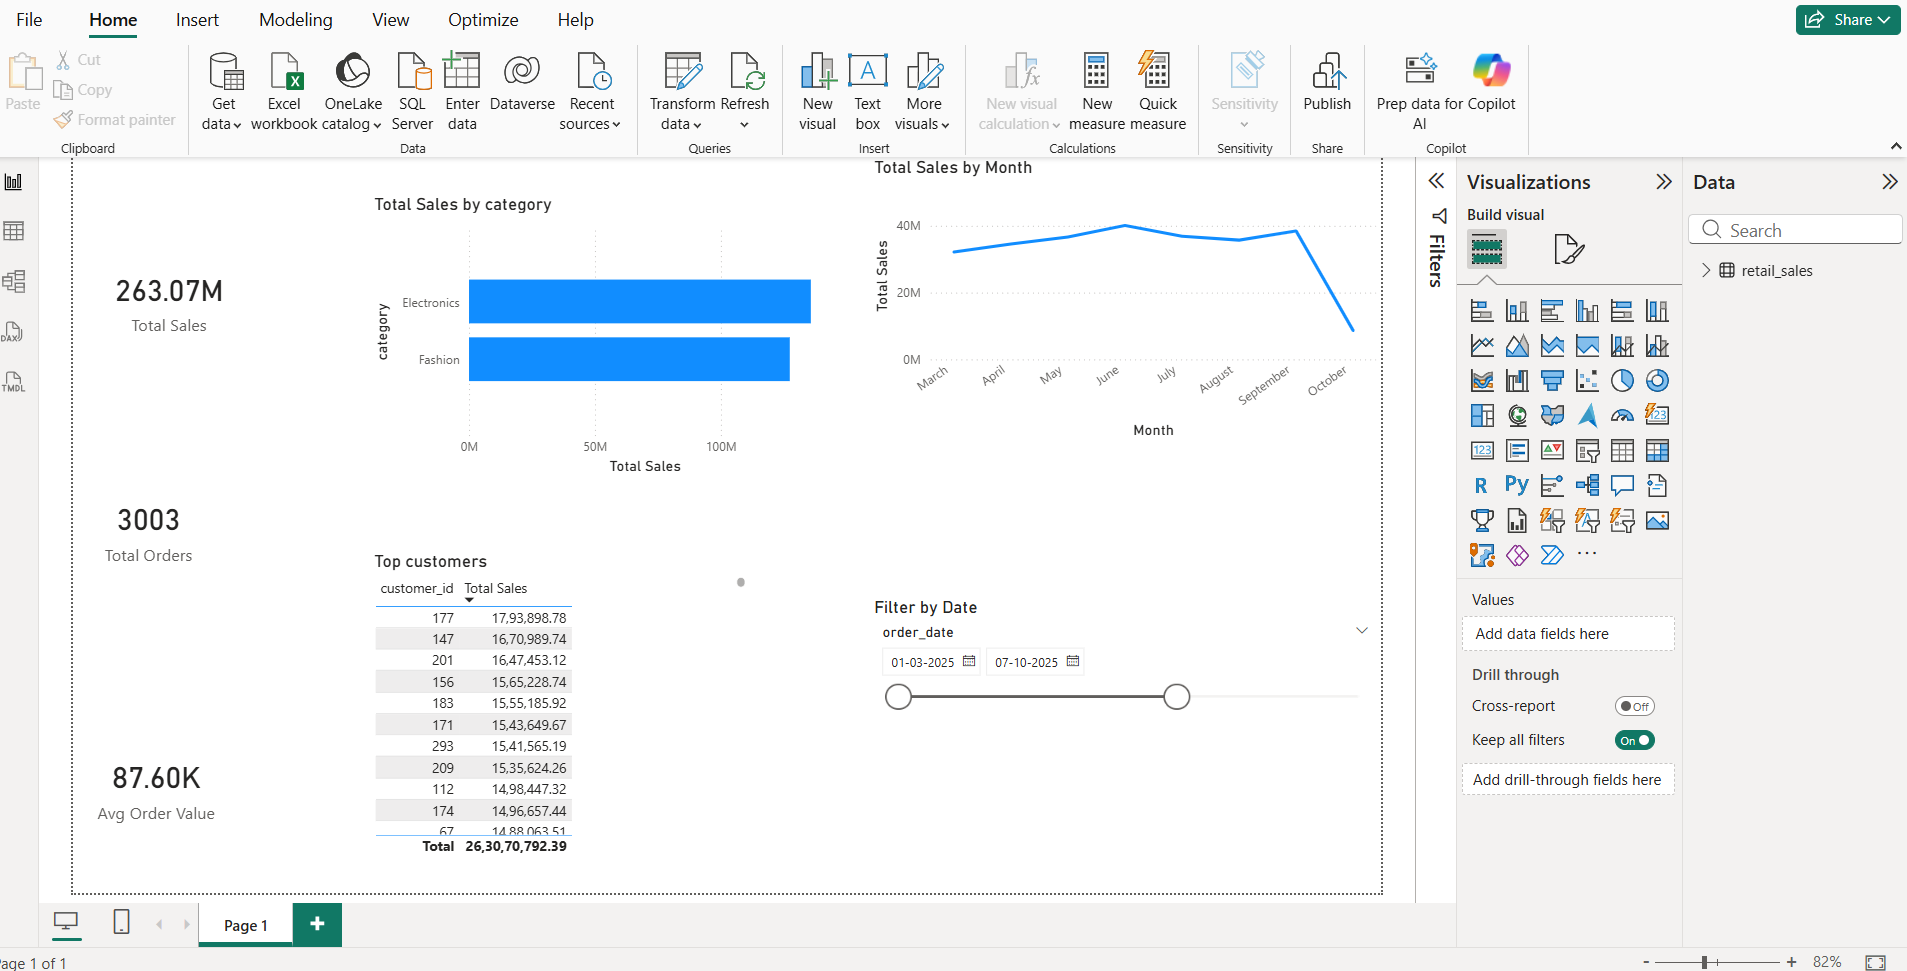

The dashboard page shown, as its layout file describes it:
{"tool":"powerbi","page":{"name":"Page 1","canvas":[1280,720],"ordinal":0},"visuals":[{"type":"card","fields":{"Values":["retail_sales.Total Sales"]},"box":[10,0,168.8,280],"z":0},{"type":"card","fields":{"Values":["retail_sales.Total Orders"]},"box":[10,290,128.8,148.8],"z":1000},{"type":"card","fields":{"Values":["retail_sales.Avg Order Value"]},"box":[10,570,143.8,93.8],"z":2000},{"type":"lineChart","fields":{"Y":["retail_sales.Total Sales"],"Category":["retail_sales.order_date.Variation.Date Hierarchy.Year","retail_sales.order_date.Variation.Date Hierarchy.Quarter","retail_sales.order_date.Variation.Date Hierarchy.Month","retail_sales.order_date.Variation.Date Hierarchy.Day"]},"box":[779.2,0,500.8,280],"z":3000},{"type":"clusteredBarChart","fields":{"Category":["retail_sales.category"],"Y":["retail_sales.Total Sales"]},"box":[290,35,463.8,280],"z":4000},{"type":"tableEx","title":"Top customers","fields":{"Values":["retail_sales.customer_id","retail_sales.Total Sales"]},"box":[290,385,373.3,303.3],"z":5000},{"type":"slicer","title":"Filter by Date","fields":{"Values":["retail_sales.order_date"]},"box":[778.8,430,501.2,280],"z":6000}]}

Visuals, with their boxes on the page's 1280x720 design canvas (x1, y1, x2, y2). These are canvas units, not pixel positions in the 1907x971 screenshot, which may show the page scaled, cropped or inside an application window:
card - retail_sales.Total Sales: bbox=(10, 0, 179, 280)
card - retail_sales.Total Orders: bbox=(10, 290, 139, 439)
card - retail_sales.Avg Order Value: bbox=(10, 570, 154, 664)
lineChart - retail_sales.Total Sales x retail_sales.order_date.Variation.Date Hierarchy.Year: bbox=(779, 0, 1280, 280)
clusteredBarChart - retail_sales.category x retail_sales.Total Sales: bbox=(290, 35, 754, 315)
"Top customers" tableEx: bbox=(290, 385, 663, 688)
"Filter by Date" slicer: bbox=(779, 430, 1280, 710)
